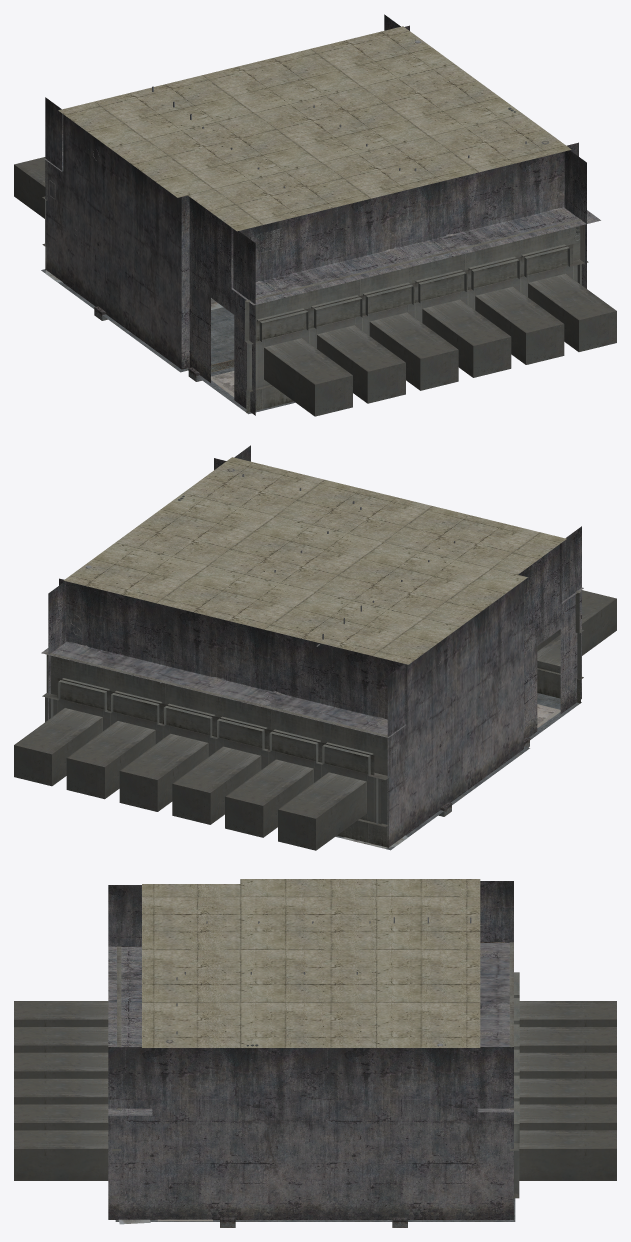
3 renders of one model, top to bottom at view 1: azimuth 30°, elevation 25°; view 2: azimuth 150°, elevation 25°; view 3: azimuth 270°, elevation 25°, orthographic.
Parts seen in each view (by area): view 1: LOD_1_Group_0_Sub_4__st3_policeUndergroundWall02, LOD_1_Group_0_Sub_1__st3_policeUndergroundCeiling02, LOD_1_Group_0_Sub_6__st3_policeUndergroundCorpsestorage01, LOD_1_Group_0_Sub_2__st3_policeUndergroundFloor02, LOD_1_Group_0_Sub_9__st3_policeUndergroundDirt01__Env_Decal, LOD_1_Group_0_Sub_8__st2_IronPipeDuctCable_A; view 2: LOD_1_Group_0_Sub_4__st3_policeUndergroundWall02, LOD_1_Group_0_Sub_1__st3_policeUndergroundCeiling02, LOD_1_Group_0_Sub_6__st3_policeUndergroundCorpsestorage01, LOD_1_Group_0_Sub_2__st3_policeUndergroundFloor02; view 3: LOD_1_Group_0_Sub_4__st3_policeUndergroundWall02, LOD_1_Group_0_Sub_1__st3_policeUndergroundCeiling02, LOD_1_Group_0_Sub_6__st3_policeUndergroundCorpsestorage01, LOD_1_Group_0_Sub_2__st3_policeUndergroundFloor02.
Part boxes in pixels (x1,y1,x2,y2): LOD_1_Group_0_Sub_4__st3_policeUndergroundWall02: (44, 14, 600, 415); LOD_1_Group_0_Sub_1__st3_policeUndergroundCeiling02: (58, 26, 571, 231); LOD_1_Group_0_Sub_6__st3_policeUndergroundCorpsestorage01: (14, 157, 616, 416); LOD_1_Group_0_Sub_2__st3_policeUndergroundFloor02: (41, 269, 295, 414); LOD_1_Group_0_Sub_9__st3_policeUndergroundDirt01__Env_Decal: (45, 208, 584, 397); LOD_1_Group_0_Sub_8__st2_IronPipeDuctCable_A: (49, 39, 579, 253); LOD_1_Group_0_Sub_4__st3_policeUndergroundWall02: (41, 445, 583, 848); LOD_1_Group_0_Sub_1__st3_policeUndergroundCeiling02: (64, 457, 566, 664); LOD_1_Group_0_Sub_6__st3_policeUndergroundCorpsestorage01: (14, 590, 616, 850); LOD_1_Group_0_Sub_2__st3_policeUndergroundFloor02: (335, 693, 581, 850); LOD_1_Group_0_Sub_4__st3_policeUndergroundWall02: (108, 881, 513, 1221); LOD_1_Group_0_Sub_1__st3_policeUndergroundCeiling02: (142, 879, 480, 1047); LOD_1_Group_0_Sub_6__st3_policeUndergroundCorpsestorage01: (14, 942, 616, 1198); LOD_1_Group_0_Sub_2__st3_policeUndergroundFloor02: (115, 1198, 515, 1221).
Bounding box in the file's own units: 9.39 × 4.61 × 13.66.
